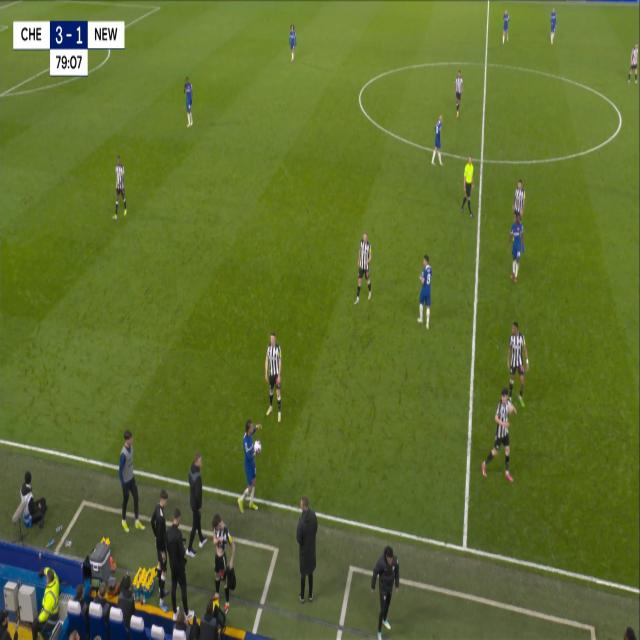Ball: (253, 438, 262, 456)
Chelsea: (236, 413, 265, 516), (414, 249, 436, 332), (507, 210, 525, 284), (430, 110, 444, 176), (182, 74, 195, 128), (287, 21, 298, 66), (501, 4, 511, 47), (549, 2, 558, 45)
New castle: (480, 384, 520, 487), (506, 316, 530, 414), (262, 327, 285, 427), (350, 229, 374, 312), (112, 151, 128, 222), (626, 35, 640, 86), (454, 69, 464, 120)
Refree: (460, 150, 478, 220)
